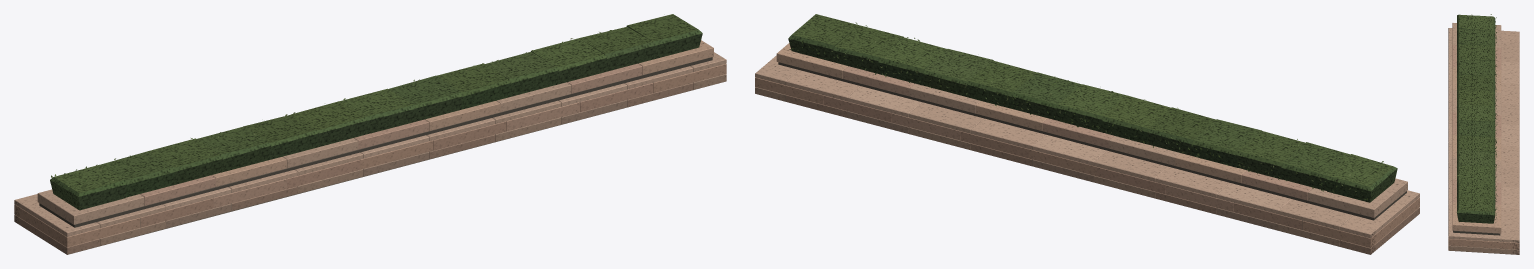
The model's file is seatwall.glb.
3 views of the same model, side by side, from view 1: azimuth 30°, elevation 25°; view 2: azimuth 150°, elevation 25°; view 3: azimuth 270°, elevation 25° (orthographic). The views are drawn at different scales.
Visible parts, largest first — view 1: Surface; view 2: Surface; view 3: Surface.
Part boxes in pixels (x1,y1,x2,y2): Surface: (14,14,726,254); Surface: (755,14,1419,254); Surface: (1448,14,1519,254).
Bounding box in the file's own units: 12.99 × 1.33 × 1.8.
Materials: 1 (1 with a texture image).
